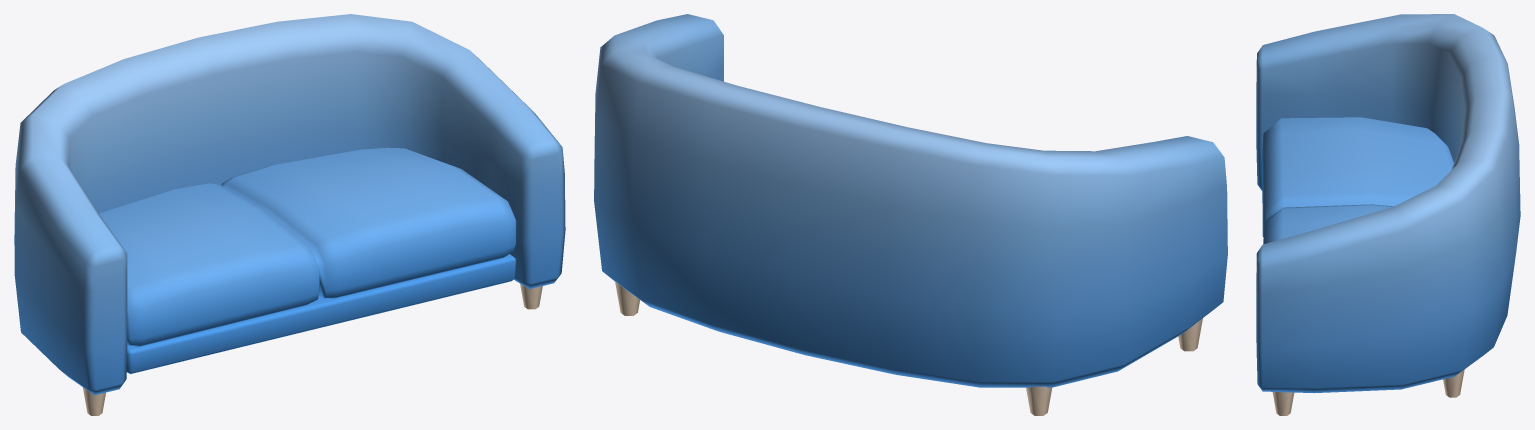
Rendered from Furniture_Sofa_03.fbx.
The picture shows the model from 3 angles, left to right: view 1: azimuth 30°, elevation 25°; view 2: azimuth 150°, elevation 25°; view 3: azimuth 270°, elevation 25°; orthographic projection. The views are drawn at different scales.
Visible parts, largest first — view 1: Furniture_Sofa_03; view 2: Furniture_Sofa_03; view 3: Furniture_Sofa_03.
Boxes of the visible parts, x1,y1,x2,y2 form: Furniture_Sofa_03: (14, 14, 565, 415); Furniture_Sofa_03: (594, 14, 1227, 415); Furniture_Sofa_03: (1256, 14, 1520, 415).
Size of the model in its own units: 297 by 141 by 150.
